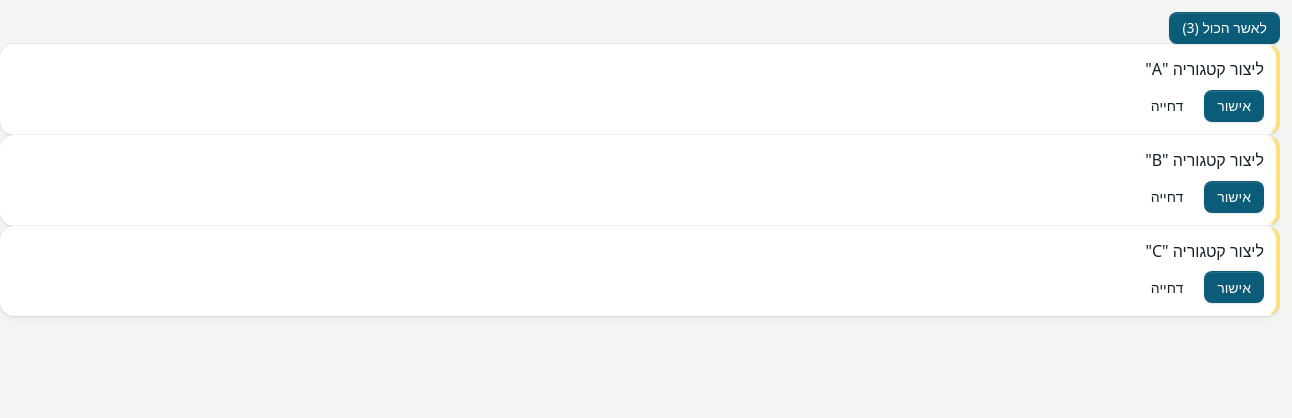
it: ActionGroup › puts every card back to idle with the generic error when the request throws
The width and height of the screenshot is (1292, 418).
Click the button "לאשר הכול (3)" at (1225, 28), box [1169, 12, 1280, 44]
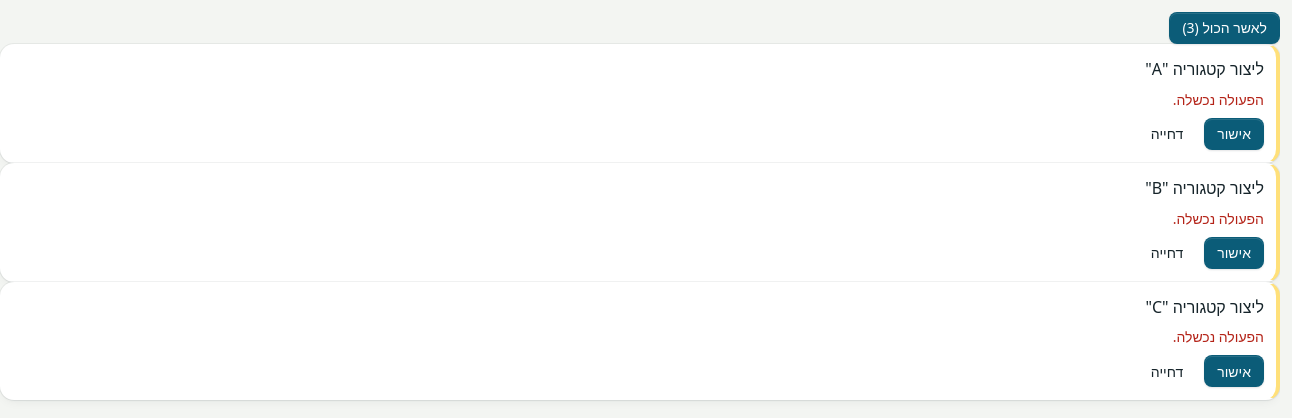
Expected: the number of buttons "אישור" is 3, [1204, 118, 1264, 150]; [1204, 237, 1264, 269]; [1204, 355, 1264, 387]
Result: the number of messages is 3 at [1173, 90, 1264, 109]; [1173, 209, 1264, 228]; [1173, 327, 1264, 346]
